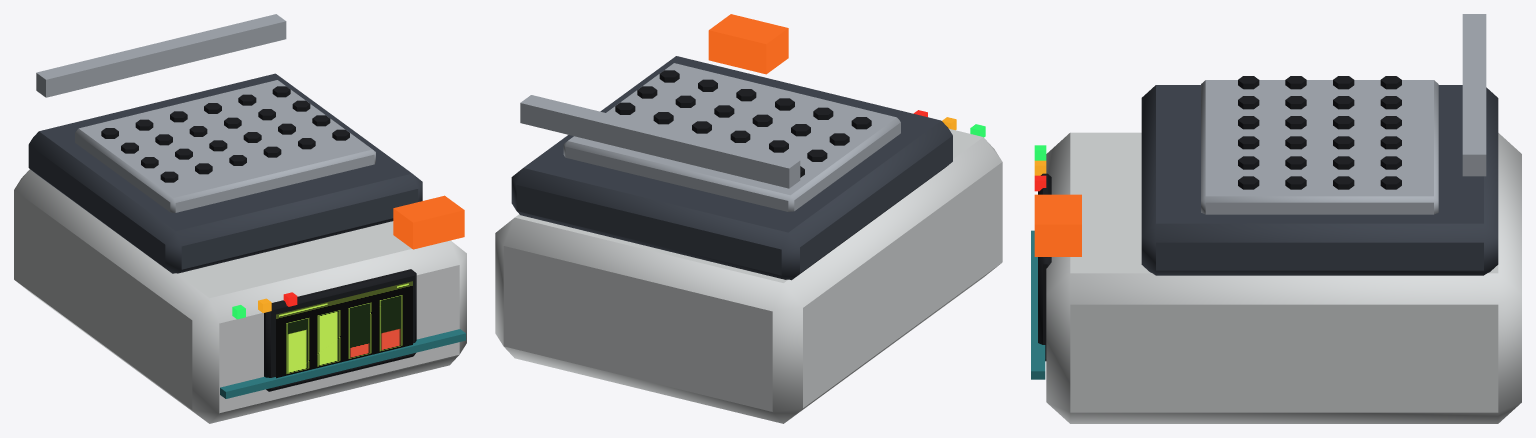
Rendered from analyzer_thermal_cycler.glb.
The picture shows the model from 3 angles, left to right: view 1: azimuth 30°, elevation 25°; view 2: azimuth 150°, elevation 25°; view 3: azimuth 270°, elevation 25°; orthographic projection. The views are drawn at different scales.
Visible parts, largest first — view 1: analyzer_thermal_cycler; view 2: analyzer_thermal_cycler; view 3: analyzer_thermal_cycler.
Part boxes in pixels (<box>): analyzer_thermal_cycler: <box>14,14,466,423</box>; analyzer_thermal_cycler: <box>495,14,1002,423</box>; analyzer_thermal_cycler: <box>1031,14,1521,423</box>.
Size of the model in its own units: 0.32 by 0.25 by 0.413.
10 materials, 1 textured.
